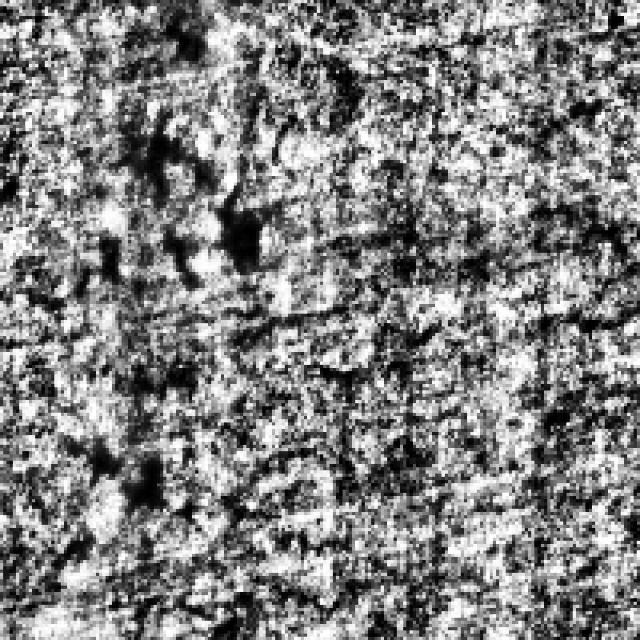Pitted_Surface: (10, 121, 268, 308)
